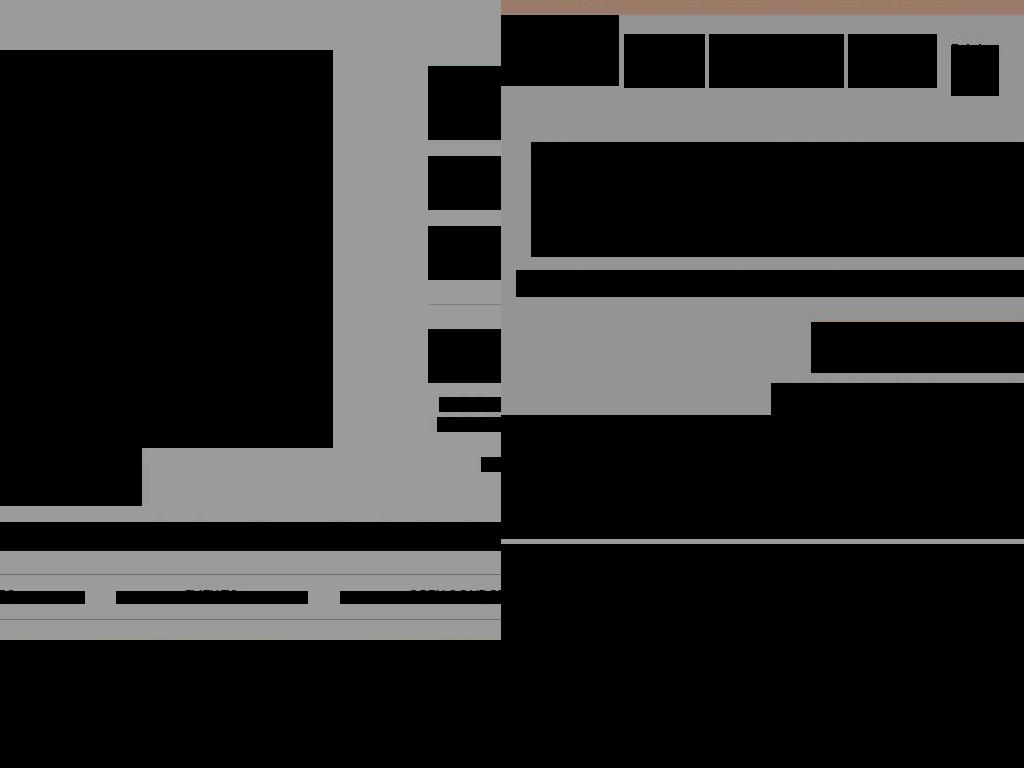button: (0, 640, 501, 768), (768, 564, 1024, 768), (501, 564, 748, 768), (811, 322, 1024, 373), (501, 15, 619, 86), (709, 34, 844, 88), (428, 66, 501, 140), (848, 34, 937, 88), (624, 34, 705, 88), (428, 156, 501, 210), (428, 226, 501, 280), (428, 329, 501, 383), (528, 506, 698, 528), (811, 339, 1024, 355), (116, 591, 308, 604), (340, 591, 501, 604), (720, 506, 796, 528), (819, 506, 889, 528), (0, 591, 85, 604), (98, 438, 122, 462)
heading: (531, 142, 1024, 257), (865, 207, 1024, 257)
image: (0, 50, 333, 448), (0, 640, 501, 768), (768, 564, 1024, 768), (772, 564, 1024, 768), (501, 564, 748, 768), (501, 30, 604, 71), (679, 490, 827, 506)
label: (962, 506, 1024, 529)
link: (951, 45, 999, 96), (0, 486, 76, 503), (437, 417, 501, 432)
text: (0, 522, 501, 551), (516, 270, 1024, 297), (771, 383, 1024, 425), (0, 444, 96, 503), (439, 397, 501, 412), (76, 486, 80, 503)
